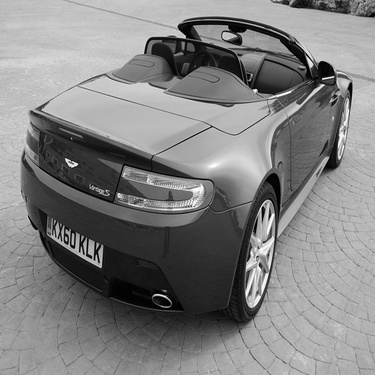car: (14, 3, 352, 328)
